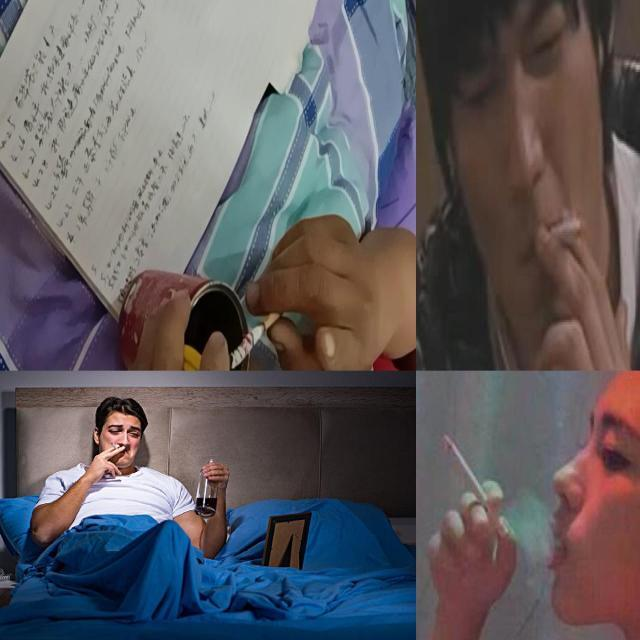smoking: (439, 434, 509, 538), (232, 308, 282, 370), (542, 203, 592, 260), (108, 435, 120, 453)
